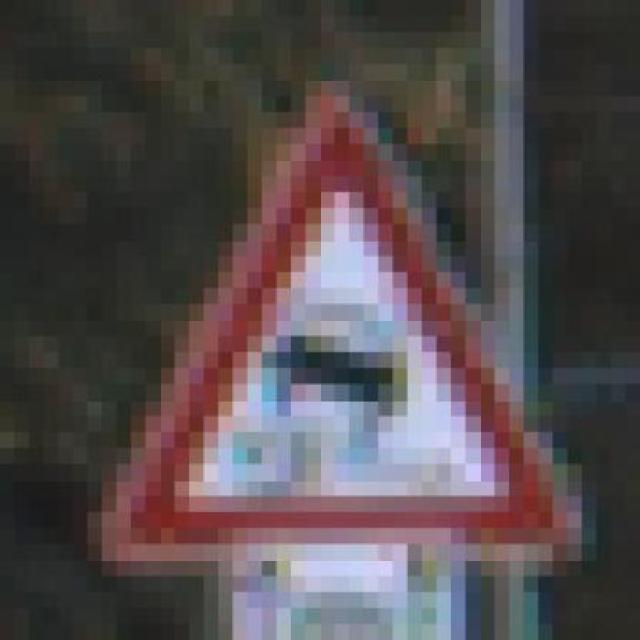Slippery Road Ahead: (85, 81, 580, 562)
